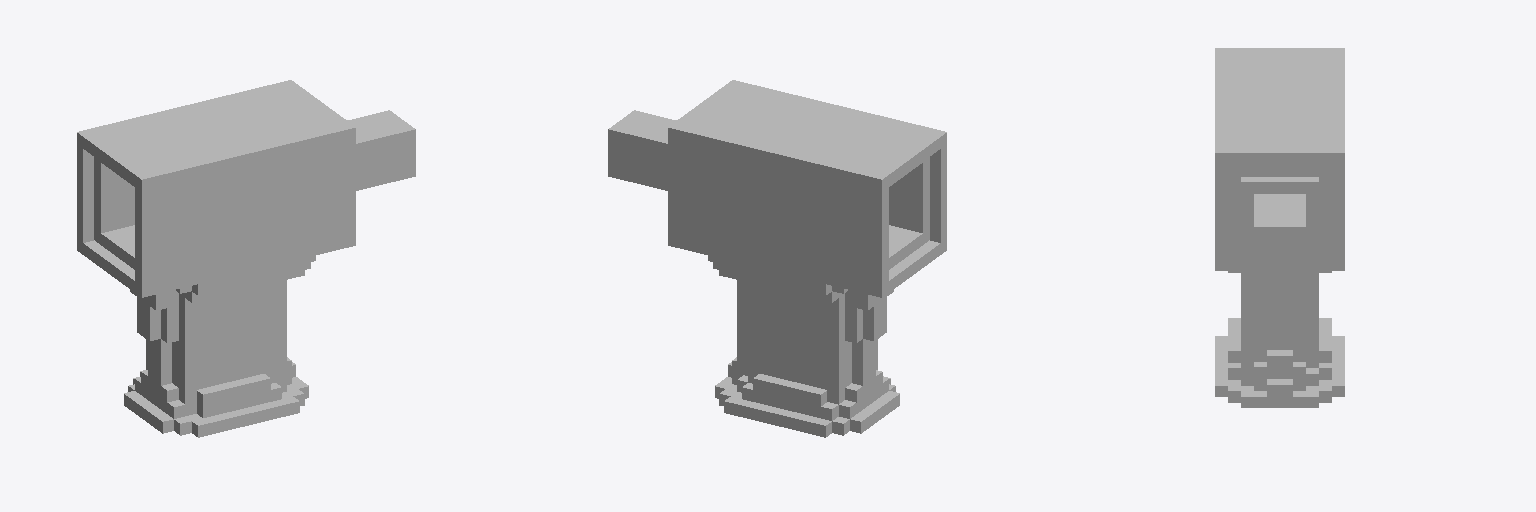
Rendered from Maquina Cuspidora.obj.
3 renders of one model, left to right at view 1: azimuth 30°, elevation 25°; view 2: azimuth 150°, elevation 25°; view 3: azimuth 270°, elevation 25°, orthographic.
Parts seen in each view (by area): view 1: object 1; view 2: object 1; view 3: object 1.
Part boxes in pixels (x1,y1,x2,y2): object 1: (77,80,415,437); object 1: (608,80,946,437); object 1: (1215,48,1344,407).
Bounding box in the file's own units: 2.6 × 2.3 × 1.